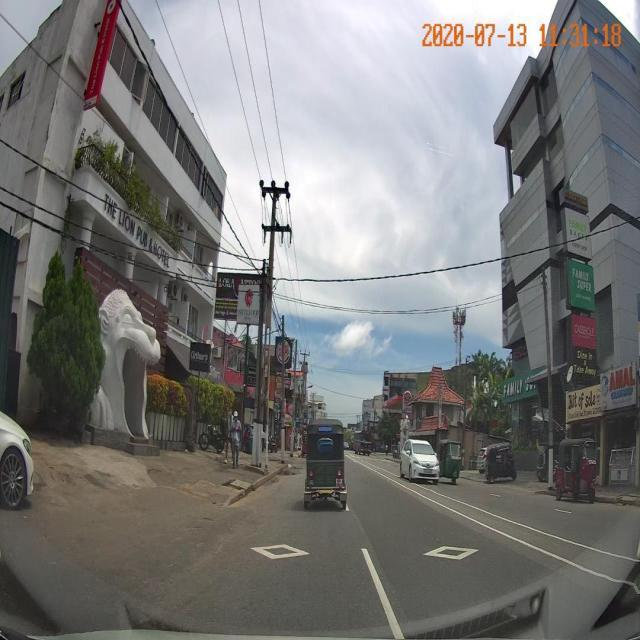Liniya 1: (400, 483, 634, 587), (411, 482, 637, 563), (361, 547, 405, 638), (553, 508, 572, 514)
Romb: (249, 540, 306, 561), (425, 544, 477, 560)
